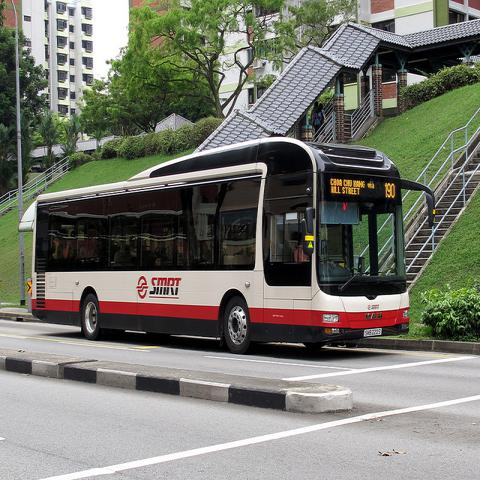bus: (15, 137, 436, 354)
